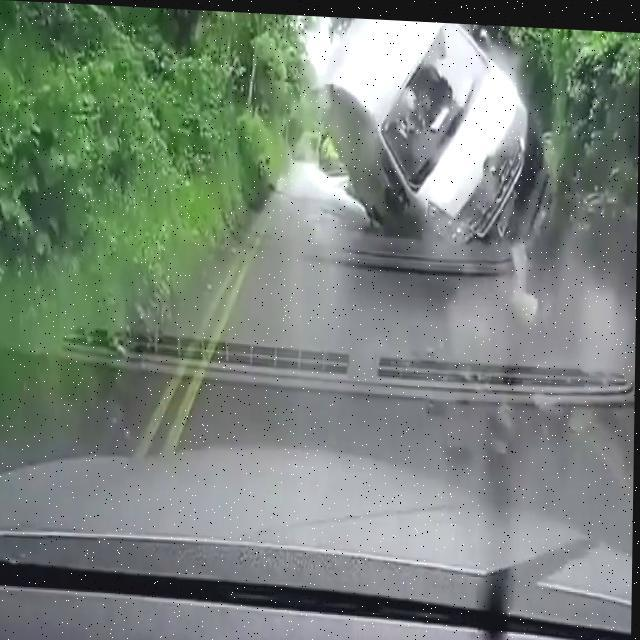single accident: (296, 1, 575, 292)
